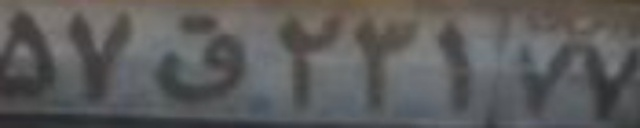1: (433, 22, 478, 109)
2: (274, 14, 340, 108)
3: (351, 16, 421, 108)
5: (0, 7, 55, 97)
7: (66, 7, 140, 101), (582, 44, 638, 121), (514, 41, 570, 114)
ghaf: (155, 12, 251, 103)
